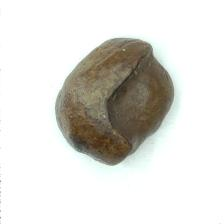NG: (103, 43, 176, 155)
